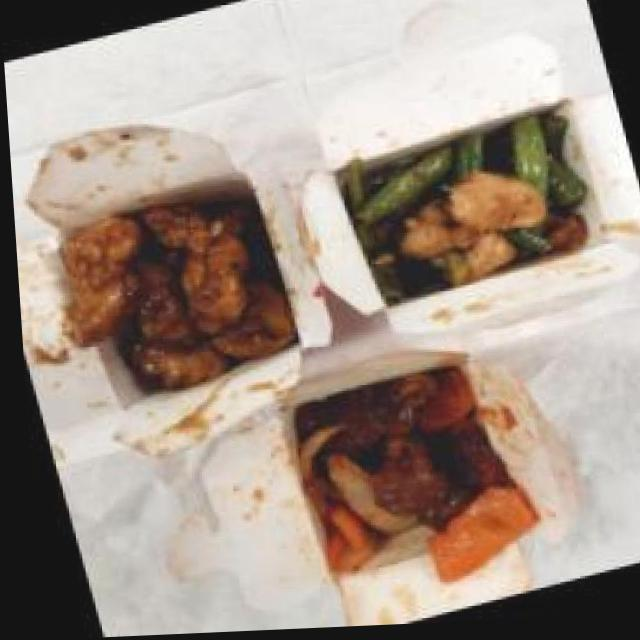Beijing Beef: (264, 347, 537, 599)
String Bean Chicken Breast: (340, 107, 610, 316)
The Original Orange Chicken: (29, 168, 307, 417)
